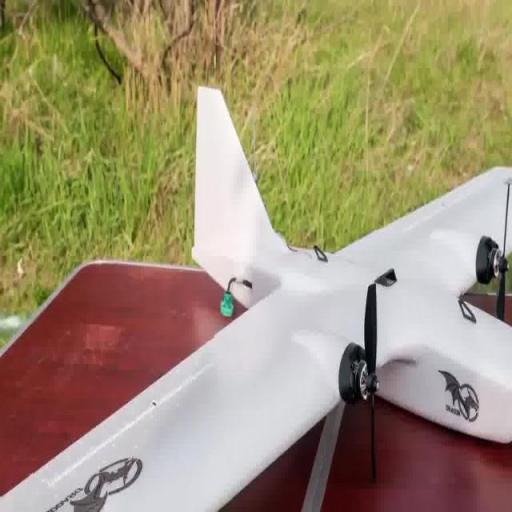uav: (1, 84, 512, 512)
